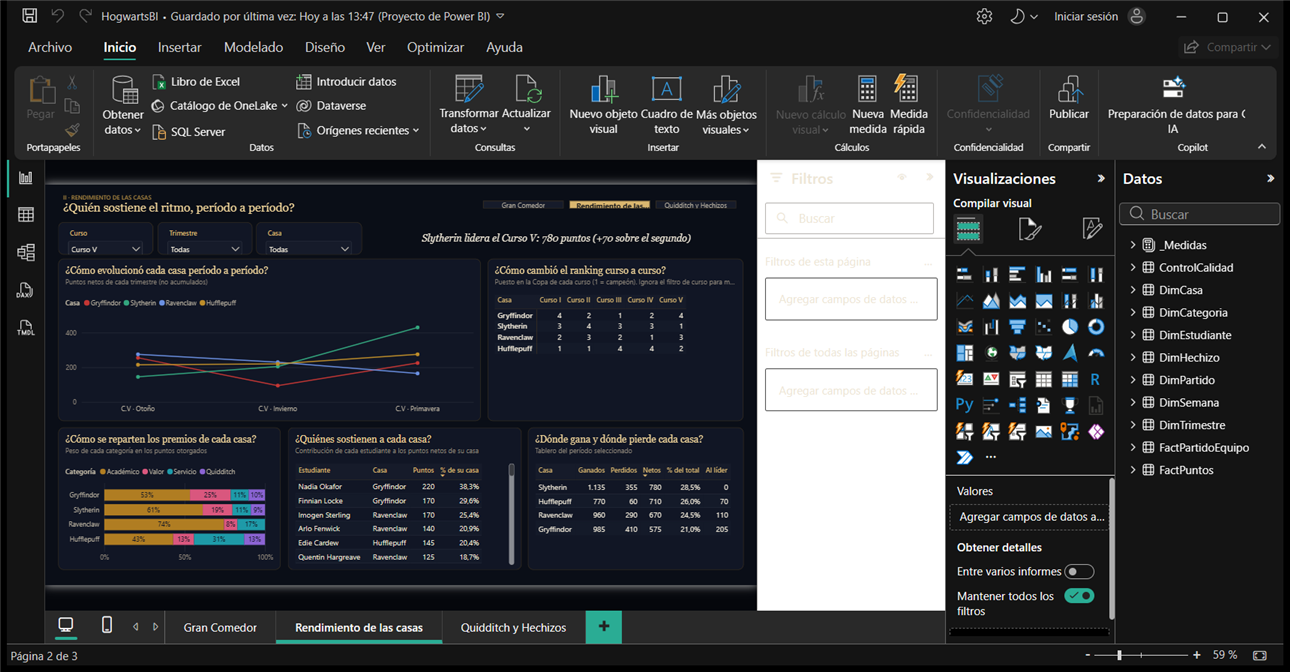

The page's visual inventory and layout, read from the dashboard file:
{"tool":"powerbi","page":{"name":"Rendimiento de las casas","canvas":[1280,720],"ordinal":1},"visuals":[{"type":"image","box":[0,0,1280,112],"z":0},{"type":"textbox","box":[26,16,600,76],"z":100},{"type":"pageNavigator","box":[752,0,495.4,42.5],"z":200},{"type":"slicer","fields":{"Values":["DimTrimestre.Curso"]},"box":[24,120,156,56],"z":300},{"type":"slicer","fields":{"Values":["DimTrimestre.Trimestre"]},"box":[188,120,156,56],"z":400},{"type":"slicer","fields":{"Values":["DimCasa.Casa"]},"box":[352,120,164,56],"z":500},{"type":"card","fields":{"Values":["_Medidas.Titular Gran Comedor"]},"box":[532,120,724,56],"z":600},{"type":"image","box":[24,182,1232,104],"z":700},{"type":"lineChart","title":"¿Cómo evolucionó cada casa período a período?","fields":{"Category":["DimTrimestre.Período"],"Series":["DimCasa.Casa"],"Y":["_Medidas.Puntos Netos"]},"box":[24,292,760,188],"z":800},{"type":"pivotTable","title":"¿Cómo cambió el ranking curso a curso?","fields":{"Columns":["DimTrimestre.Curso"],"Rows":["DimCasa.Casa"],"Values":["_Medidas.Posición"]},"box":[796,292,460,188],"z":900},{"type":"hundredPercentStackedColumnChart","title":"¿Cómo se reparten los premios de cada casa?","fields":{"Category":["DimCasa.Casa"],"Series":["DimCategoria.Categoría"],"Y":["_Medidas.Puntos Otorgados"]},"box":[24,488,400,204],"z":1000},{"type":"tableEx","title":"¿Quiénes sostienen a cada casa?","fields":{"Values":["DimEstudiante.Estudiante","DimEstudiante.Casa del Estudiante","_Medidas.Puntos Netos Estudiante","_Medidas.% Contribución a la Casa"]},"box":[436,488,420,204],"z":1100},{"type":"tableEx","title":"¿Dónde gana y dónde pierde cada casa?","fields":{"Values":["DimCasa.Casa","_Medidas.Puntos Otorgados","_Medidas.Puntos Descontados","_Medidas.Puntos Netos","_Medidas.% Participación","_Medidas.Distancia al Líder"]},"box":[868,488,388,204],"z":1200},{"type":"card","fields":{"Values":["_Medidas.Estado de Calidad"]},"box":[24,696,420,22],"z":1300},{"type":"textbox","box":[760,696,496,22],"z":1400}]}

Visuals, with their boxes on the page's 1280x720 design canvas (x1, y1, x2, y2). These are canvas units, not pixel positions in the 1290x672 screenshot, which may show the page scaled, cropped or inside an application window:
image: x1=0 y1=0 x2=1280 y2=112
textbox: x1=26 y1=16 x2=626 y2=92
pageNavigator: x1=752 y1=0 x2=1247 y2=42
slicer - DimTrimestre.Curso: x1=24 y1=120 x2=180 y2=176
slicer - DimTrimestre.Trimestre: x1=188 y1=120 x2=344 y2=176
slicer - DimCasa.Casa: x1=352 y1=120 x2=516 y2=176
card - _Medidas.Titular Gran Comedor: x1=532 y1=120 x2=1256 y2=176
image: x1=24 y1=182 x2=1256 y2=286
"¿Cómo evolucionó cada casa período a período?" lineChart: x1=24 y1=292 x2=784 y2=480
"¿Cómo cambió el ranking curso a curso?" pivotTable: x1=796 y1=292 x2=1256 y2=480
"¿Cómo se reparten los premios de cada casa?" hundredPercentStackedColumnChart: x1=24 y1=488 x2=424 y2=692
"¿Quiénes sostienen a cada casa?" tableEx: x1=436 y1=488 x2=856 y2=692
"¿Dónde gana y dónde pierde cada casa?" tableEx: x1=868 y1=488 x2=1256 y2=692
card - _Medidas.Estado de Calidad: x1=24 y1=696 x2=444 y2=718
textbox: x1=760 y1=696 x2=1256 y2=718
